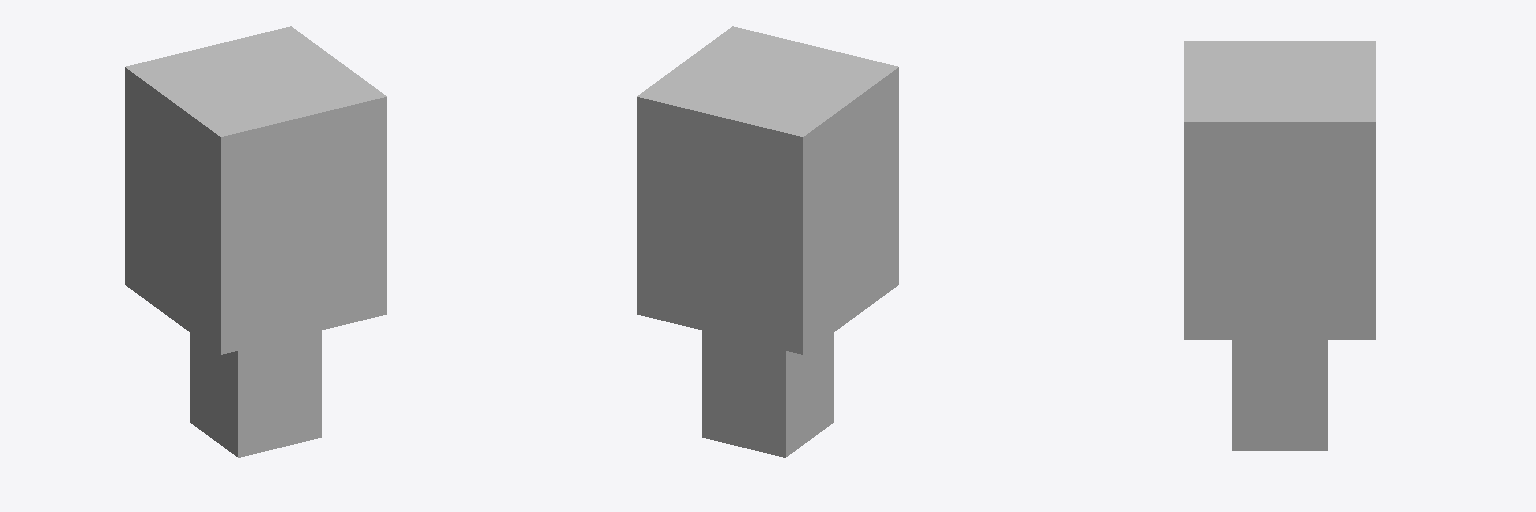
Rendered from Tree-2.obj.
The picture shows the model from 3 angles: view 1: azimuth 30°, elevation 25°; view 2: azimuth 150°, elevation 25°; view 3: azimuth 270°, elevation 25°; orthographic projection.
Visible parts, largest first — view 1: object 1; view 2: object 1; view 3: object 1.
Part boxes in pixels (left/top/right/bottom): object 1: left=125, top=26, right=386, bottom=457; object 1: left=637, top=26, right=898, bottom=457; object 1: left=1184, top=41, right=1375, bottom=450.
Bounding box in the file's own units: 0.4 × 0.8 × 0.4.